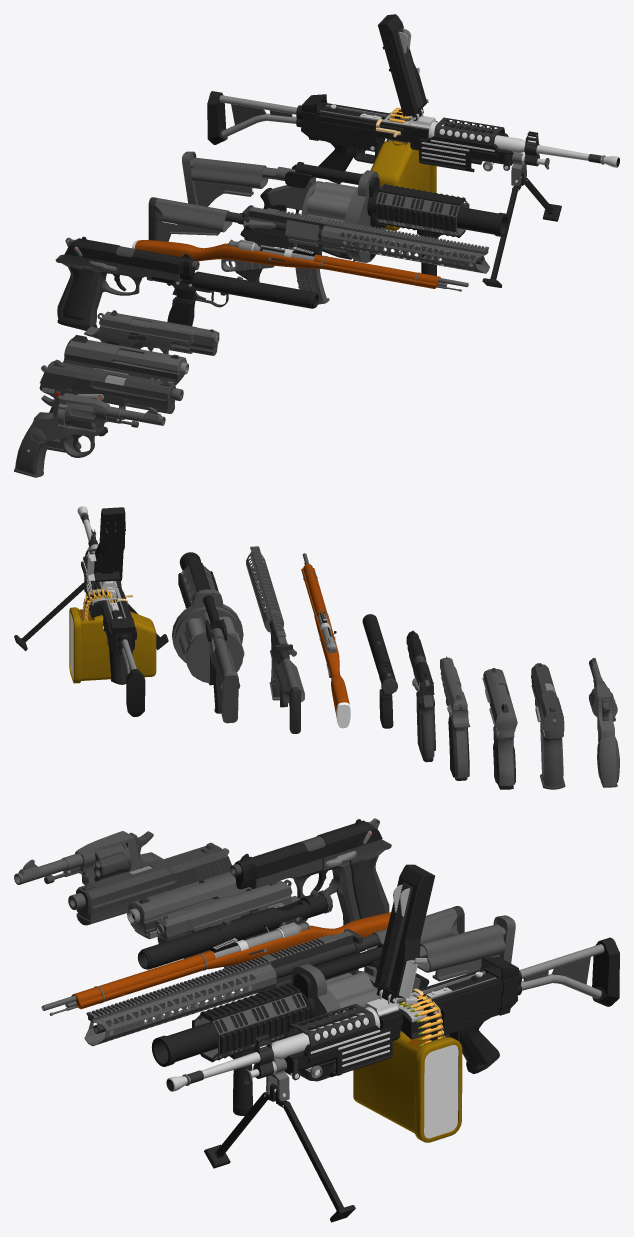
The model's file is weapon_pack_of_10100_part_6.glb.
The picture shows the model from 3 angles, top to bottom: view 1: azimuth 30°, elevation 25°; view 2: azimuth 150°, elevation 25°; view 3: azimuth 270°, elevation 25°; orthographic projection. The views are drawn at different scales.
Parts seen in each view (by area): view 1: M249, Mikor_MGL, LVOA-C, Beretta_M9, 91/30_Mosin_Nagant, Nagant_M1895, HK_Mark23, CZ_75, Weldrod_Mark1, HK_45; view 2: M249, Mikor_MGL, LVOA-C, HK_Mark23, HK_45, 91/30_Mosin_Nagant, Nagant_M1895, CZ_75, Beretta_M9, Weldrod_Mark1; view 3: M249, Mikor_MGL, LVOA-C, Beretta_M9, 91/30_Mosin_Nagant, HK_Mark23, Weldrod_Mark1, Nagant_M1895, CZ_75, HK_45.
Boxes of the visible parts, box(x1,y1,x2,y2) form: M249: box(207, 14, 619, 287); Mikor_MGL: box(182, 151, 508, 275); LVOA-C: box(148, 197, 489, 304); Beretta_M9: box(55, 236, 199, 330); 91/30_Mosin_Nagant: box(132, 239, 468, 291); Nagant_M1895: box(14, 393, 165, 477); HK_Mark23: box(39, 359, 183, 452); CZ_75: box(84, 310, 219, 355); Weldrod_Mark1: box(146, 271, 318, 326); HK_45: box(63, 335, 188, 436); M249: box(14, 506, 168, 716); Mikor_MGL: box(172, 552, 244, 723); LVOA-C: box(246, 546, 304, 733); HK_Mark23: box(531, 663, 565, 789); HK_45: box(482, 668, 517, 789); 91/30_Mosin_Nagant: box(301, 553, 350, 728); Nagant_M1895: box(588, 658, 619, 787); CZ_75: box(440, 656, 470, 780); Beretta_M9: box(406, 630, 435, 762); Weldrod_Mark1: box(362, 614, 397, 728); M249: box(166, 864, 619, 1222); Mikor_MGL: box(151, 915, 515, 1115); LVOA-C: box(84, 906, 464, 1046); Beretta_M9: box(230, 818, 391, 925); 91/30_Mosin_Nagant: box(41, 912, 390, 1015); HK_Mark23: box(68, 842, 231, 958); Weldrod_Mark1: box(137, 890, 332, 969); Nagant_M1895: box(14, 831, 162, 885); CZ_75: box(155, 879, 300, 993); HK_45: box(126, 871, 250, 991).
Bounding box in the file's own units: 81.95 × 34.59 × 54.97.
Materials: 2 (2 with a texture image).
